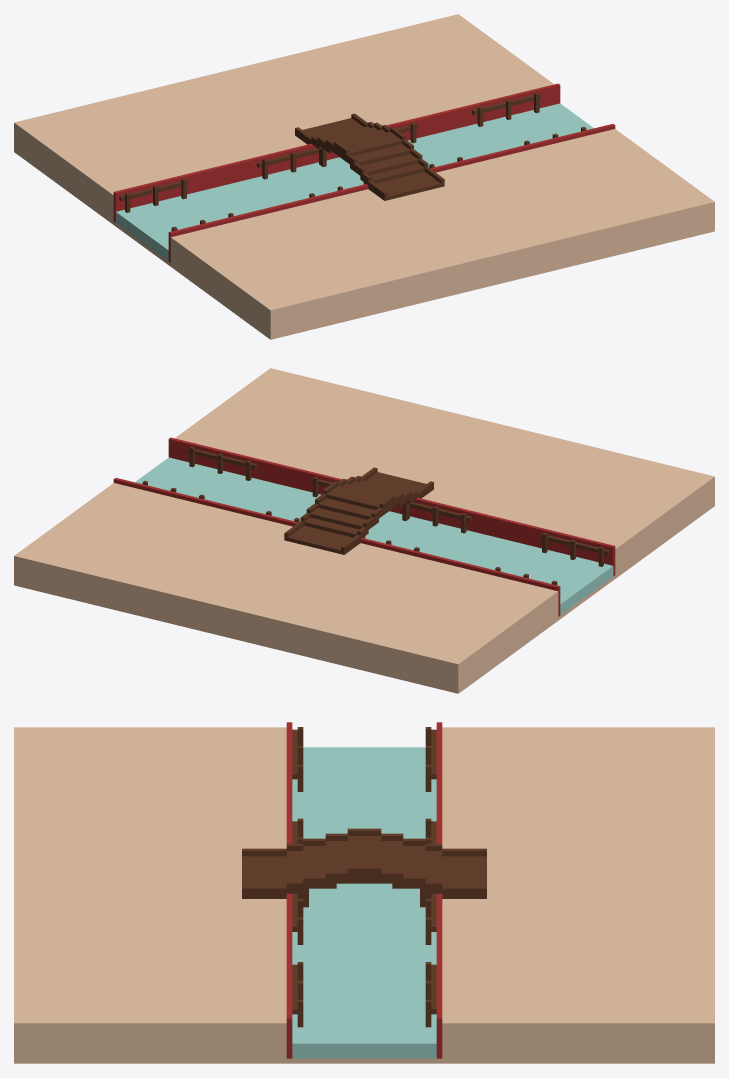
Rendered from hiraya-3.obj.
3 renders of one model, top to bottom at view 1: azimuth 30°, elevation 25°; view 2: azimuth 150°, elevation 25°; view 3: azimuth 270°, elevation 25°, orthographic. The views are drawn at different scales.
Parts seen in each view (by area): view 1: hiraya-3; view 2: hiraya-3; view 3: hiraya-3.
Boxes of the visible parts, x1,y1,x2,y2 form: hiraya-3: [14, 14, 714, 339]; hiraya-3: [14, 368, 714, 693]; hiraya-3: [14, 722, 714, 1063].
Bounding box in the file's own units: 126 × 14 × 126.
Materials: 1 (1 with a texture image).
